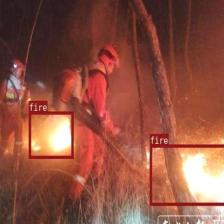fire: (149, 144, 224, 205), (28, 111, 73, 158)
